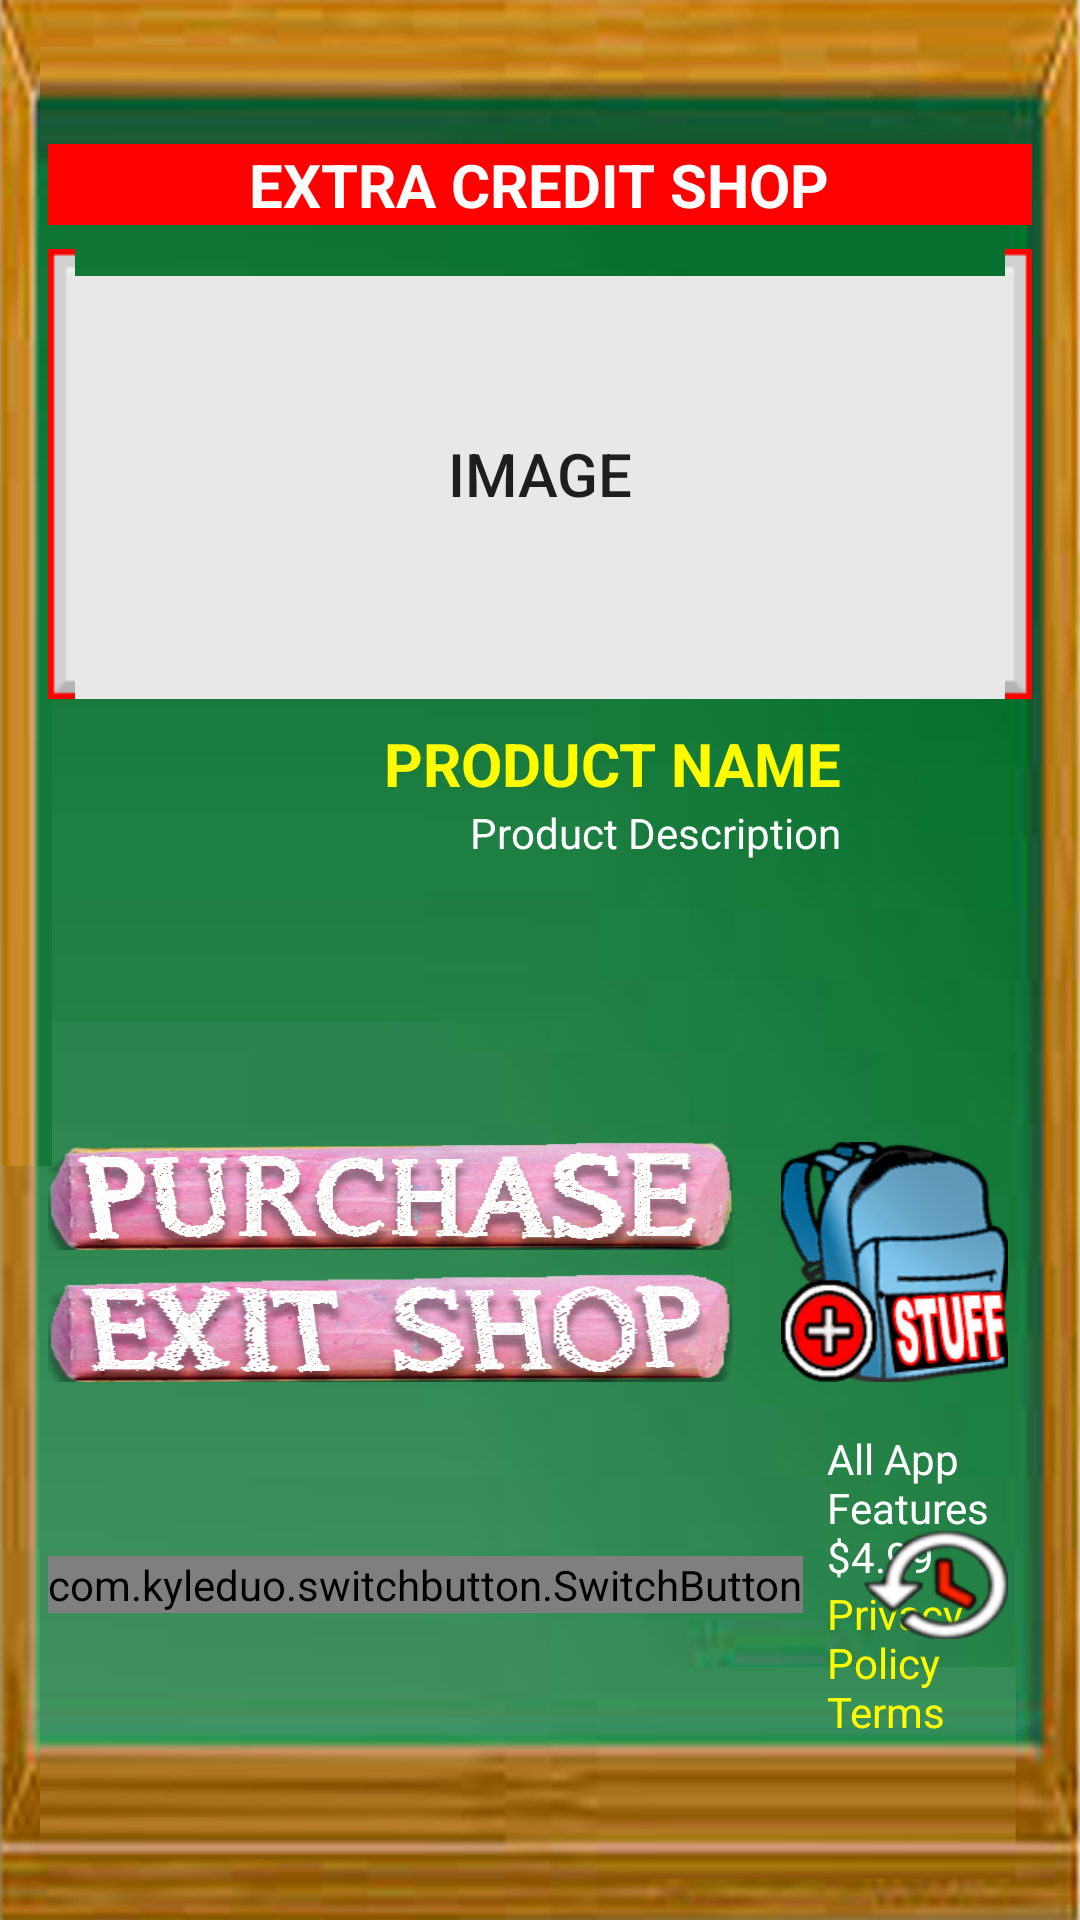

Screen size 1080w x 1920h. Icon name, then its center in pixels as (x,y):
book bag stuff: (894,1262)
